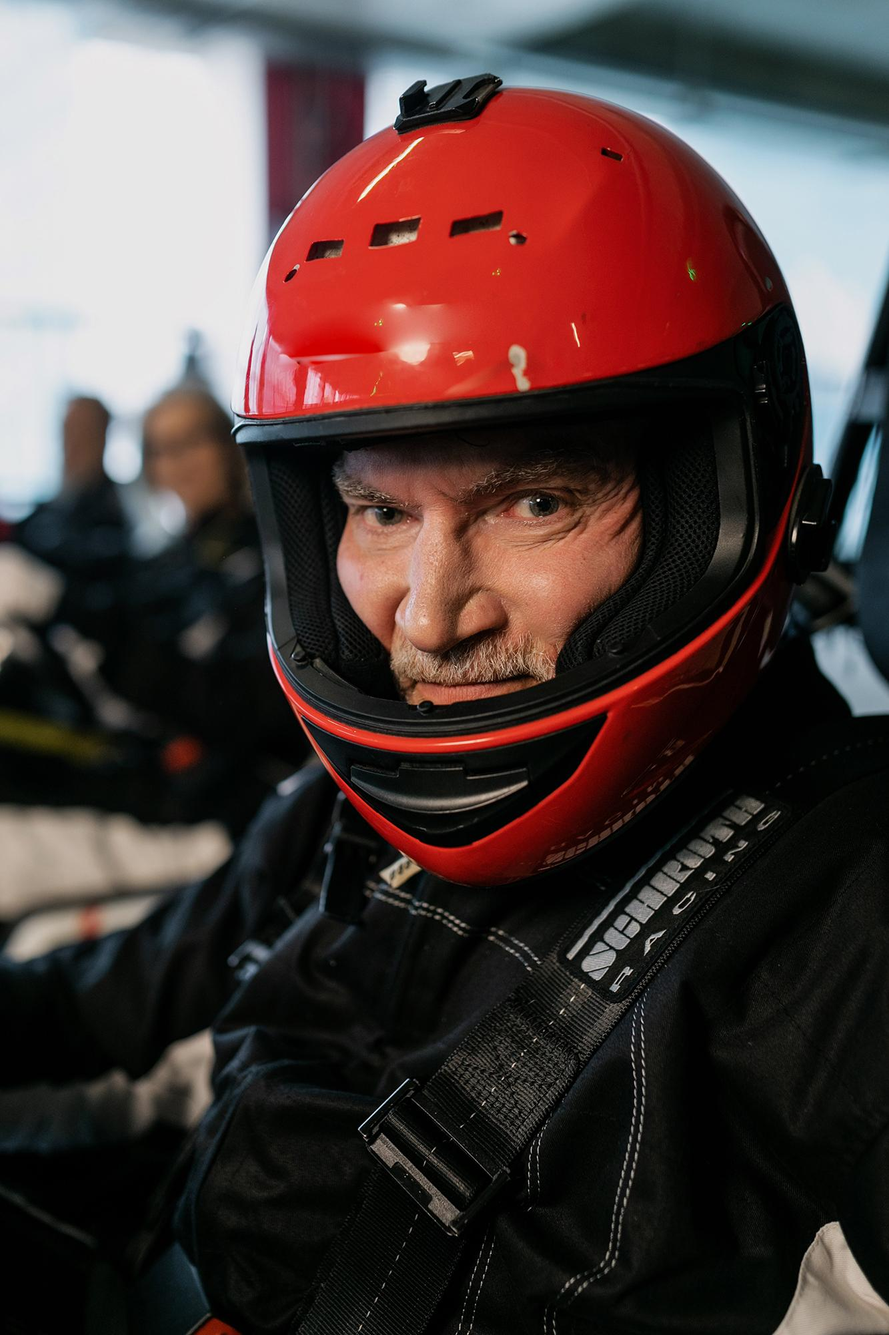helmet: (225, 69, 843, 899)
